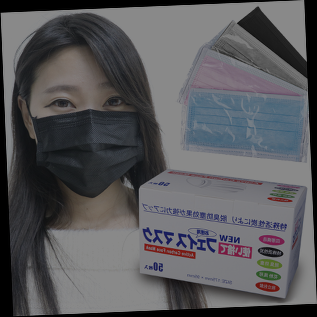with_mask: (27, 79, 146, 200)
